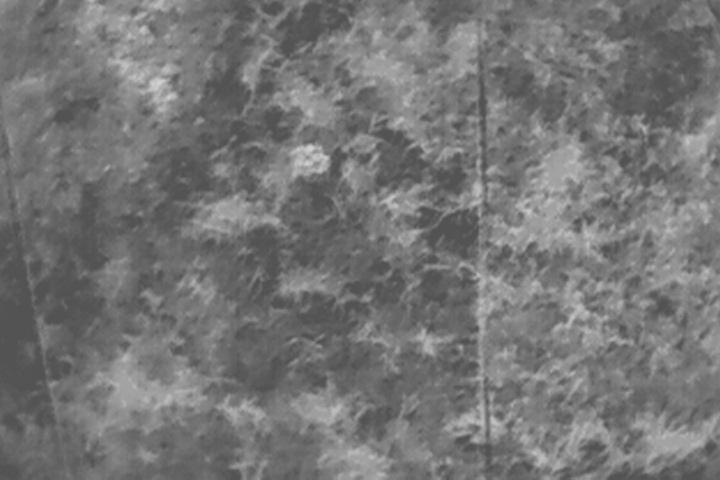landmine: (289, 142, 329, 177)
